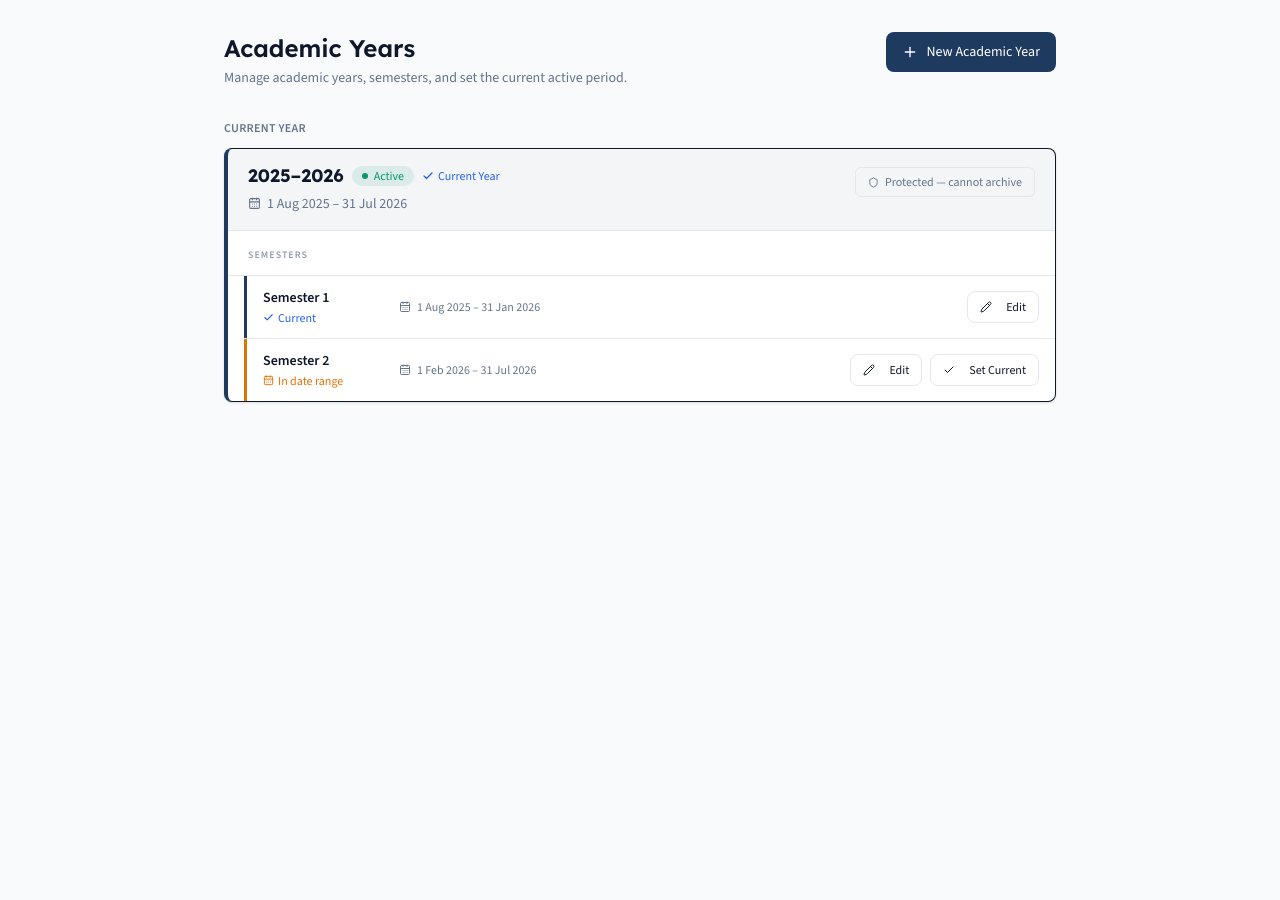
AcademicYearsPage › 7: Edit semester modal pre-populates with semester values
Expected: the text "Semester 1" is shown, [263,288,330,306]
// Click Edit on Semester 1
Click the button with aria-label "edit semester 1".
click(1003, 306)  # box [967,290,1039,322]
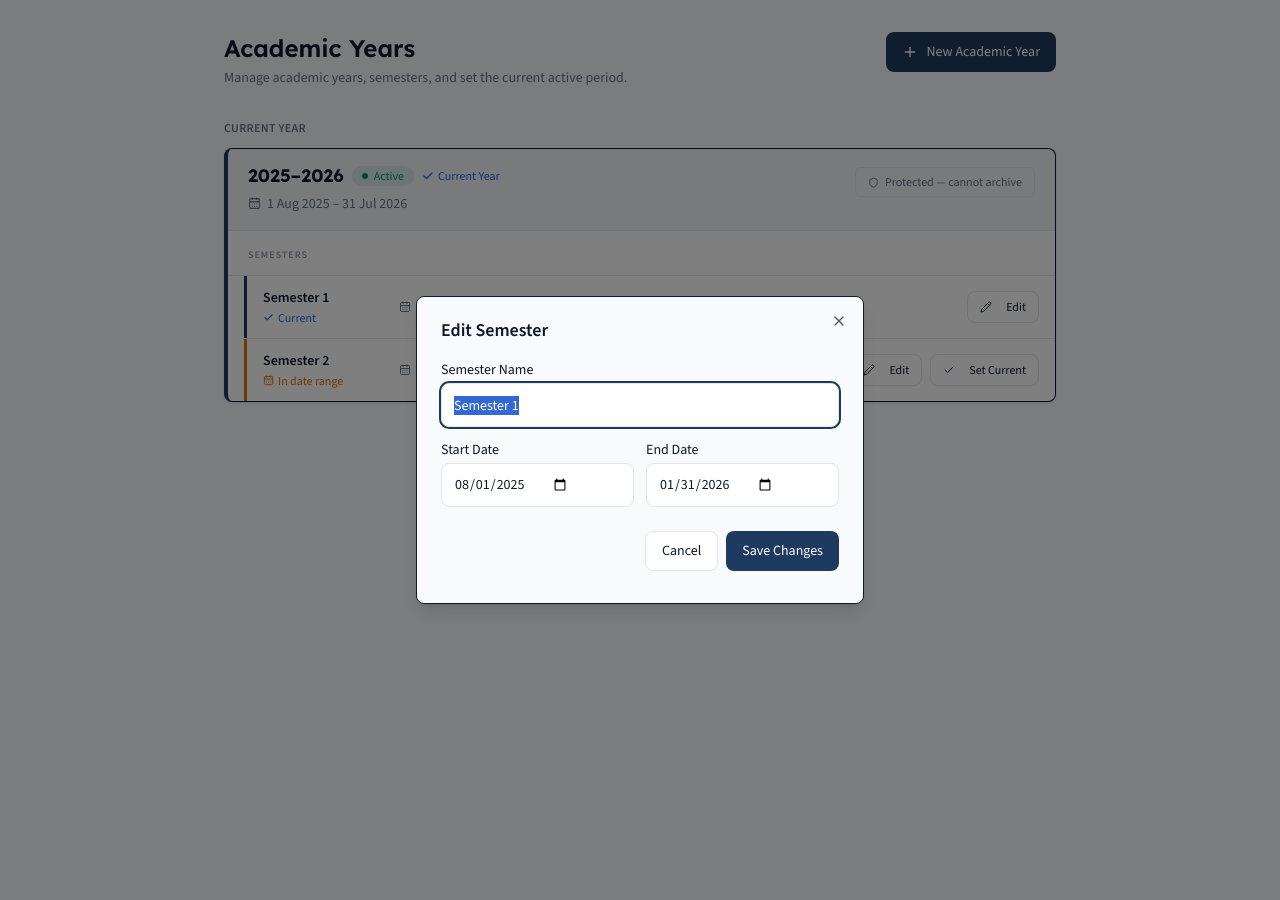
Expected: the field labelled "Semester Name" holds "Semester 1", [441,383,839,427]
